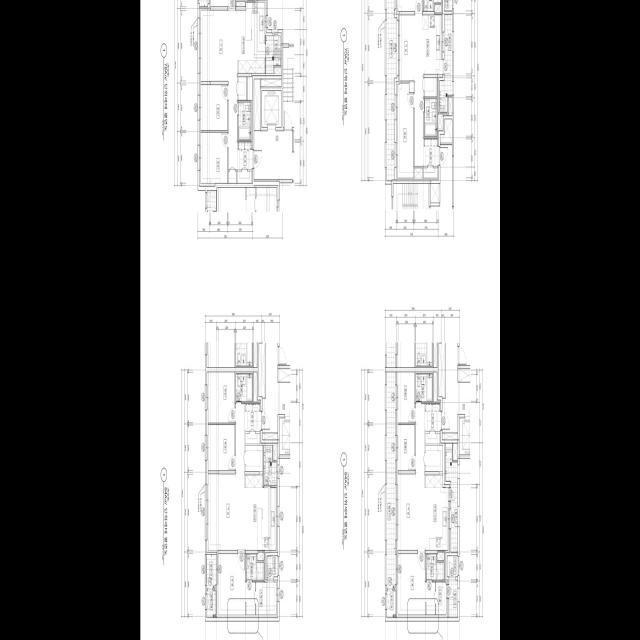background: (140, 0, 500, 640)
space_balconi: (386, 0, 397, 181), (386, 372, 395, 589), (445, 444, 457, 552), (439, 15, 452, 112), (265, 36, 280, 73), (263, 445, 276, 486), (206, 554, 216, 589), (449, 579, 457, 618)
space_bedroom: (398, 554, 425, 615), (218, 554, 245, 615), (397, 83, 413, 178), (200, 132, 227, 183), (208, 372, 234, 423), (200, 85, 227, 130), (208, 425, 234, 471), (398, 372, 414, 423), (398, 425, 414, 471), (397, 0, 422, 11)
space_dressroom: (246, 582, 276, 615), (426, 582, 446, 615)
space_elevator: (262, 91, 281, 127)
space_elevator_hall: (254, 131, 292, 179)
space_front: (423, 139, 439, 178), (424, 404, 441, 432), (245, 404, 261, 432), (237, 142, 253, 170)
space_kitchen: (245, 475, 276, 550), (238, 2, 265, 74), (425, 475, 448, 550), (423, 15, 443, 74)
space_living_room: (200, 10, 238, 170), (208, 404, 245, 550), (398, 404, 425, 550), (399, 15, 423, 166)
space_other: (425, 445, 442, 472), (245, 445, 262, 471), (254, 79, 260, 130), (440, 119, 452, 143), (424, 78, 437, 97), (267, 556, 277, 580), (447, 556, 457, 577), (430, 184, 440, 203), (238, 77, 246, 100), (237, 171, 251, 183), (261, 79, 281, 87), (245, 434, 260, 444), (425, 434, 439, 444), (262, 433, 277, 440), (442, 433, 457, 440), (228, 171, 236, 183), (433, 372, 436, 402), (253, 372, 256, 402), (444, 0, 452, 11), (414, 168, 422, 178), (437, 114, 442, 129), (448, 97, 452, 115), (453, 444, 457, 460), (257, 552, 264, 561), (437, 552, 444, 561), (434, 5, 441, 13), (236, 1, 245, 6), (273, 445, 276, 460), (274, 67, 280, 74)
space_outdoor_room: (206, 591, 216, 618), (386, 591, 396, 618)
space_toilet: (238, 102, 251, 140), (424, 99, 437, 137), (415, 374, 432, 402), (235, 374, 252, 402), (246, 554, 264, 580), (426, 554, 444, 580), (423, 0, 441, 11)
